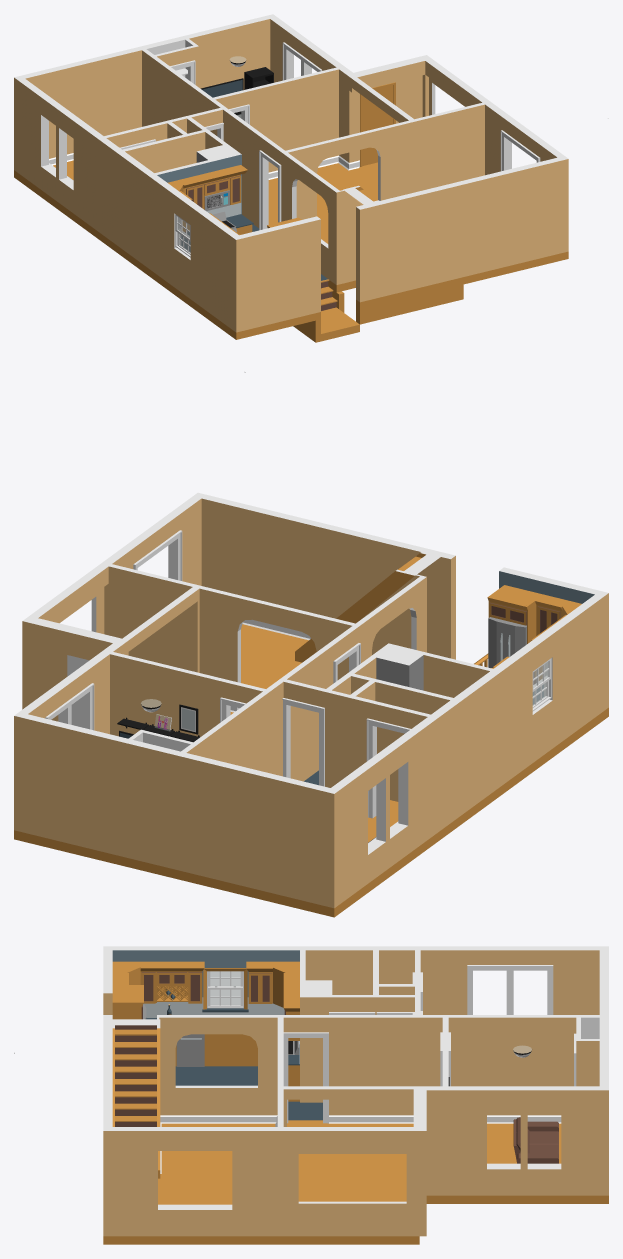
Rendered from 20513cff-6f84-456c-86e5-b3b471517a43.glb.
3 views of the same model, one above another, from view 1: azimuth 30°, elevation 25°; view 2: azimuth 150°, elevation 25°; view 3: azimuth 270°, elevation 25° (orthographic). The views are drawn at different scales.
Parts seen in each view (by area): view 1: group441143647_primitive2, group1521680610_primitive1, group2033220094_primitive0, group754051893_primitive1, group441143647_primitive3, group1552020564_primitive0, group2147124318_primitive1, group441143647_primitive4, group2102152594_primitive0, group1300204801, group2018269649_primitive1, group899160107_primitive1 (+25 smaller); view 2: group441143647_primitive2, group1521680610_primitive1, group754051893_primitive1, group441143647_primitive3, group1552020564_primitive0, group2147124318_primitive1, group441143647_primitive4, group2102152594_primitive0, group2088875034_primitive1, group2018269649_primitive1, group1649958311, group953372173_primitive1 (+21 smaller); view 3: group441143647_primitive2, group441143647_primitive4, group441143647_primitive3, group1552020564_primitive0, group628219677_primitive0, group1278426877_primitive0, group827047037_primitive0, group953372173_primitive1, group211273111_primitive1, group1761245136_primitive1, group893102471_primitive1, group211273111_primitive2 (+36 smaller).
Part boxes in pixels (x1,y1,x2,y2): group441143647_primitive2: (142,19,485,227); group1521680610_primitive1: (356,159,568,302); group2033220094_primitive0: (232,219,320,332); group754051893_primitive1: (14,50,141,172); group441143647_primitive3: (138,14,491,229); group1552020564_primitive0: (98,140,147,266); group2147124318_primitive1: (190,207,231,329); group441143647_primitive4: (268,162,568,292); group2102152594_primitive0: (147,175,174,286); group1300204801: (356,277,463,324); group2018269649_primitive1: (18,150,98,231); group899160107_primitive1: (335,190,361,284); group441143647_primitive2: (14,566,361,870); group1521680610_primitive1: (201,498,455,659); group754051893_primitive1: (181,756,339,908); group441143647_primitive3: (14,562,360,756); group1552020564_primitive0: (439,674,498,831); group2147124318_primitive1: (552,597,603,748); group441143647_primitive4: (14,624,308,879); group2102152594_primitive0: (499,649,532,787); group2088875034_primitive1: (323,691,373,787); group2018269649_primitive1: (339,803,439,904); group1649958311: (181,816,439,917); group953372173_primitive1: (408,717,439,825); group441143647_primitive2: (112,1017,608,1236); group441143647_primitive4: (103,1120,608,1244); group441143647_primitive3: (158,1015,608,1209); group1552020564_primitive0: (305,950,414,994); group628219677_primitive0: (112,1131,277,1150); group1278426877_primitive0: (160,1088,277,1115); group827047037_primitive0: (547,950,599,1014); group953372173_primitive1: (420,950,472,1014); group211273111_primitive1: (112,1028,160,1178); group1761245136_primitive1: (232,1151,277,1209); group893102471_primitive1: (112,1151,157,1209); group211273111_primitive2: (115,1025,156,1126).
Size of the model in its own units: 3.77 by 2.07 by 5.12.
